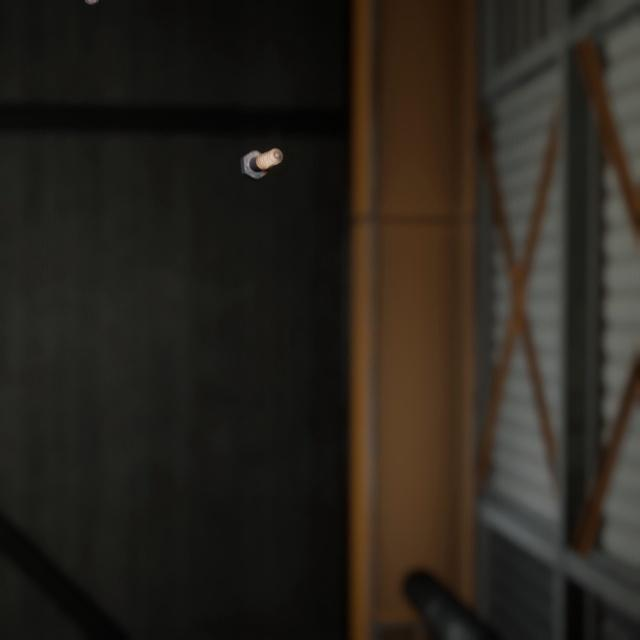bolt: (235, 129, 287, 171)
